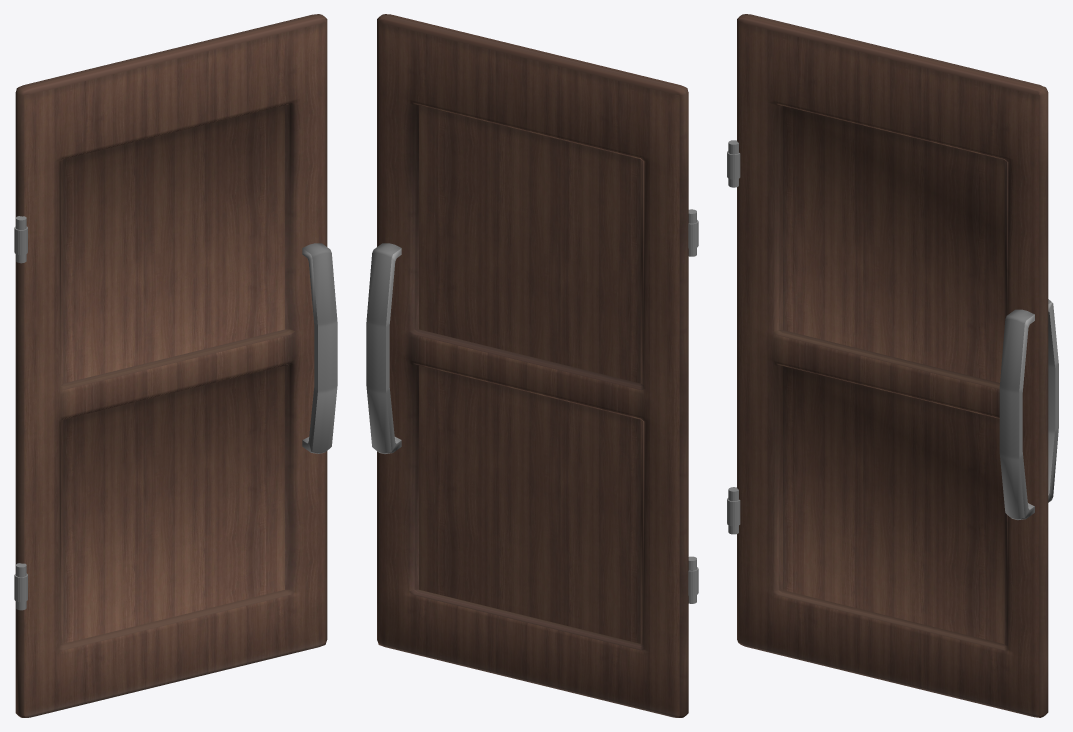
The model's file is L_Door.fbx.
The picture shows the model from 3 angles, left to right: view 1: azimuth 30°, elevation 25°; view 2: azimuth 150°, elevation 25°; view 3: azimuth 330°, elevation 25°; orthographic projection.
Parts seen in each view (by area): view 1: Door.001; view 2: Door.001; view 3: Door.001.
Boxes of the visible parts, x1,y1,x2,y2 form: Door.001: (14,14,337,717); Door.001: (366,14,698,717); Door.001: (727,14,1058,717).
Size of the model in its own units: 645 by 1236 by 148.
1 material, 1 textured.
